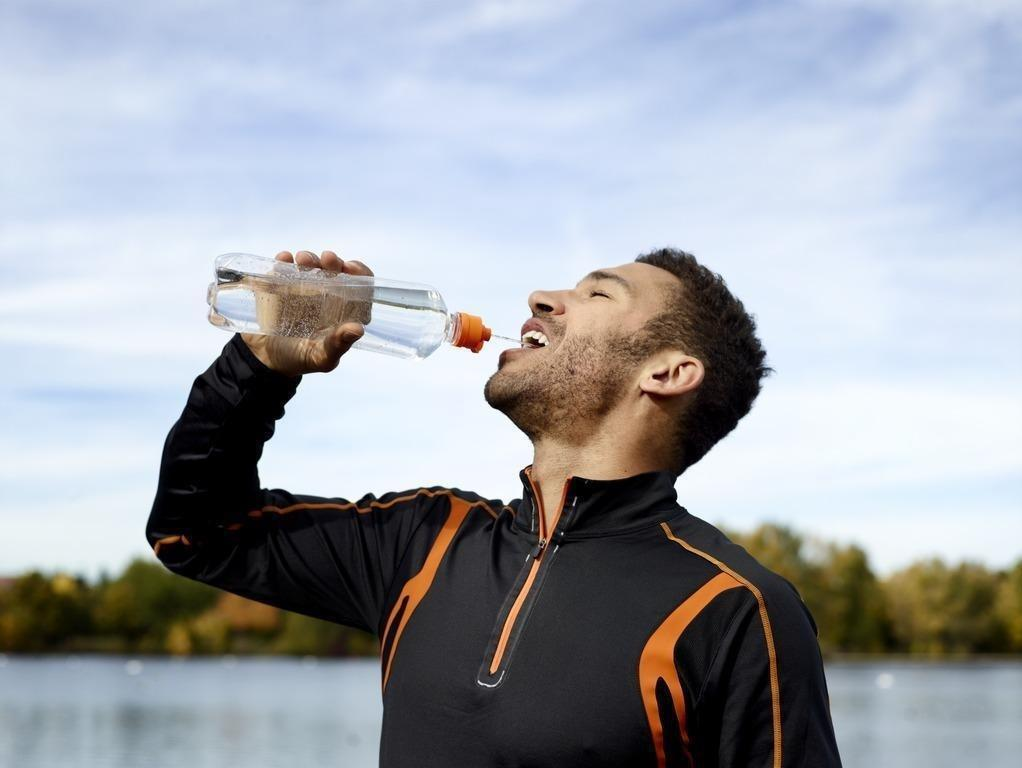gym bottle: (206, 247, 493, 363)
